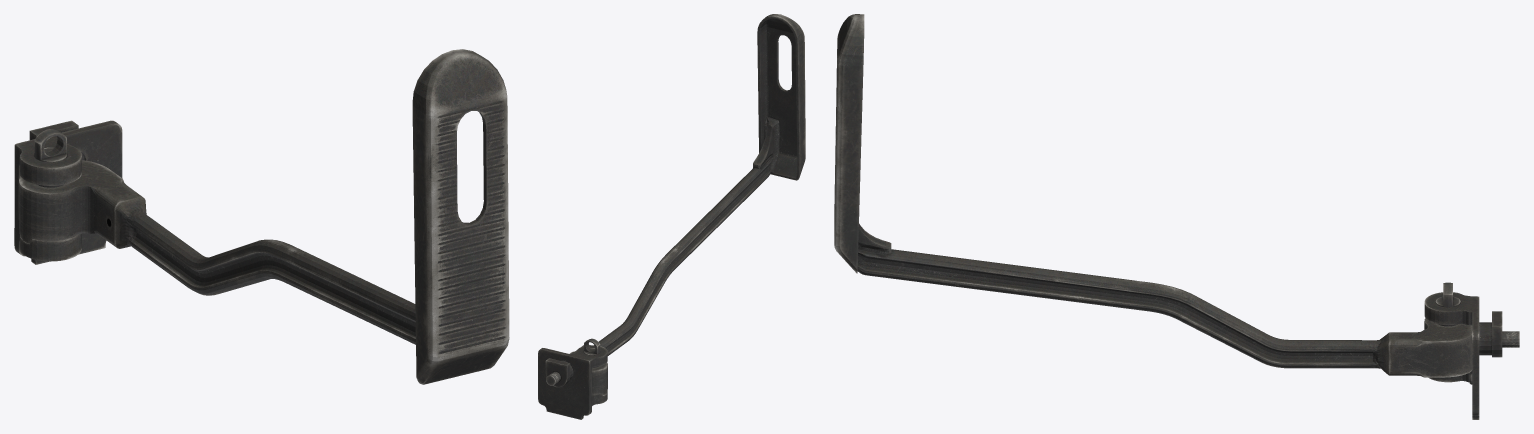
3 renders of one model, left to right at view 1: azimuth 30°, elevation 25°; view 2: azimuth 150°, elevation 25°; view 3: azimuth 270°, elevation 25°, orthographic. The views are drawn at different scales.
Parts seen in each view (by area): view 1: TW_669924a69950f5f4cd060295_PZ_Import; view 2: TW_669924a69950f5f4cd060295_PZ_Import; view 3: TW_669924a69950f5f4cd060295_PZ_Import.
Part boxes in pixels (x1,y1,x2,y2): TW_669924a69950f5f4cd060295_PZ_Import: [14, 49, 509, 384]; TW_669924a69950f5f4cd060295_PZ_Import: [538, 14, 805, 419]; TW_669924a69950f5f4cd060295_PZ_Import: [834, 14, 1519, 419].
Size of the model in its own units: 0.0242 by 0.165 by 0.1015.
1 material, 1 textured.
